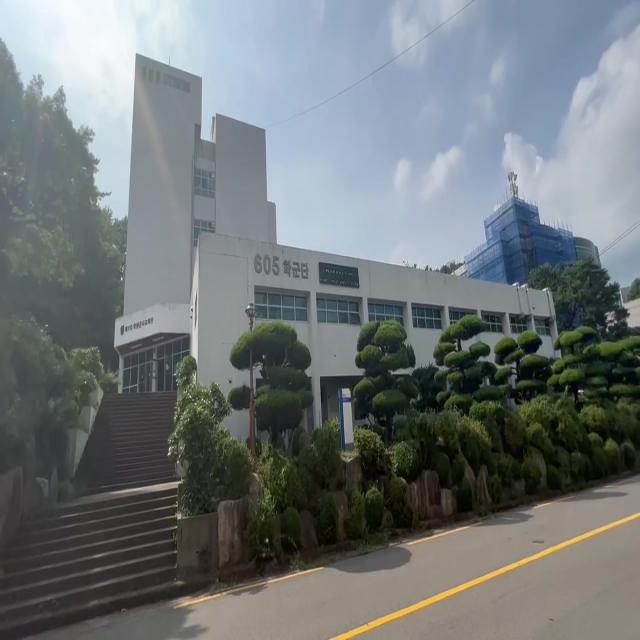building: (114, 61, 370, 444)
